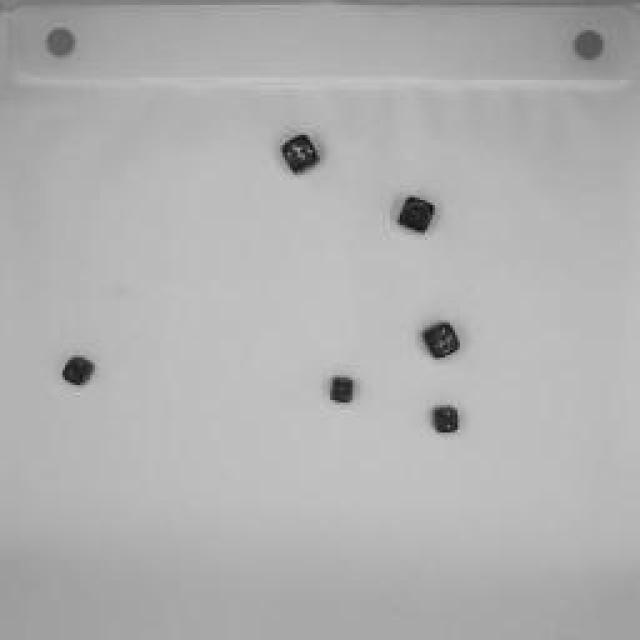dice_1: (391, 192, 439, 238), (59, 352, 96, 390)
dice_3: (325, 375, 357, 405)
dice_4: (430, 402, 462, 438)
dice_6: (278, 131, 322, 179), (418, 318, 462, 362)
